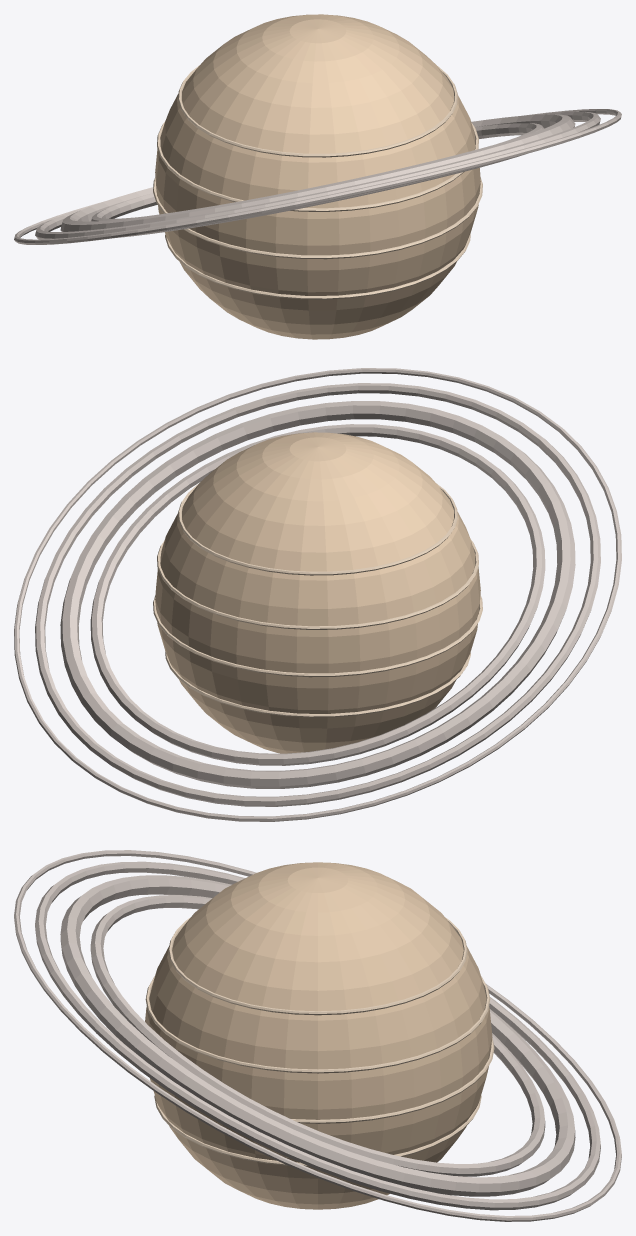
File: planeta_anillado.glb
The picture shows the model from 3 angles, top to bottom: view 1: azimuth 30°, elevation 25°; view 2: azimuth 150°, elevation 25°; view 3: azimuth 270°, elevation 25°; orthographic projection. The views are drawn at different scales.
Parts seen in each view (by area): view 1: planeta_anillado; view 2: planeta_anillado; view 3: planeta_anillado.
Part boxes in pixels (x1,y1,x2,y2): planeta_anillado: (14, 14, 621, 339); planeta_anillado: (14, 368, 621, 821); planeta_anillado: (14, 850, 621, 1221).
Size of the model in its own units: 49.46 by 26 by 45.33.
